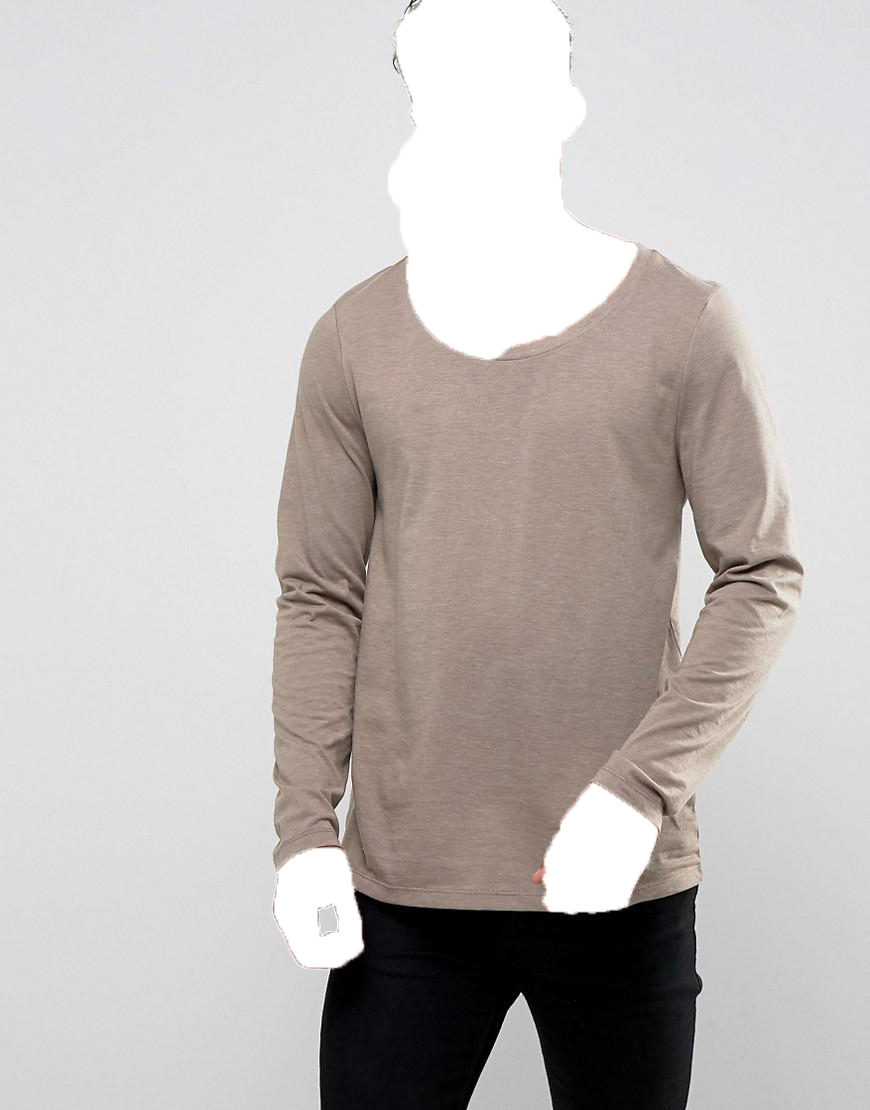teeshirt: (244, 249, 812, 927)
